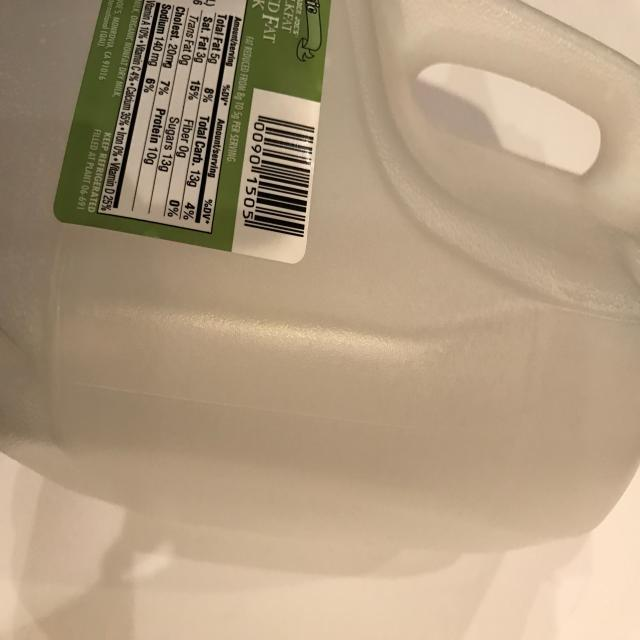plastic: (1, 1, 640, 576)
